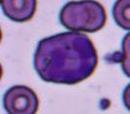E: (34, 32, 96, 84)
